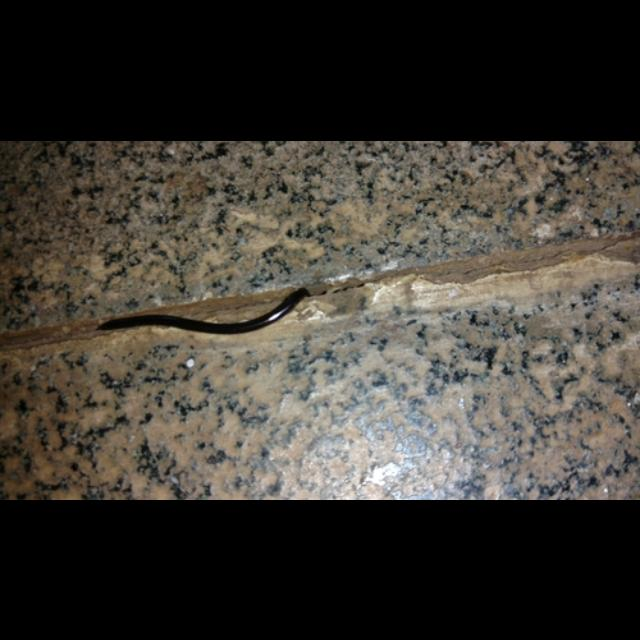snake: (75, 266, 322, 352)
